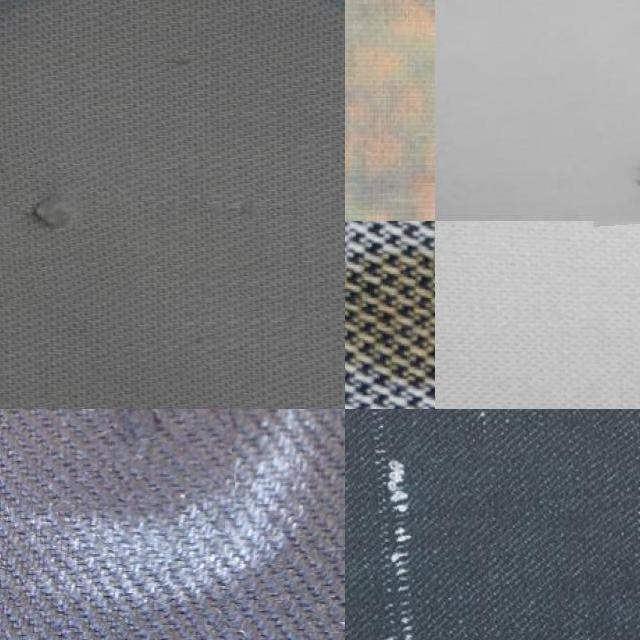Thread_other: (345, 0, 434, 221), (345, 221, 434, 409), (582, 26, 640, 224)
stains: (345, 409, 623, 640), (0, 134, 133, 308), (13, 409, 229, 509)
